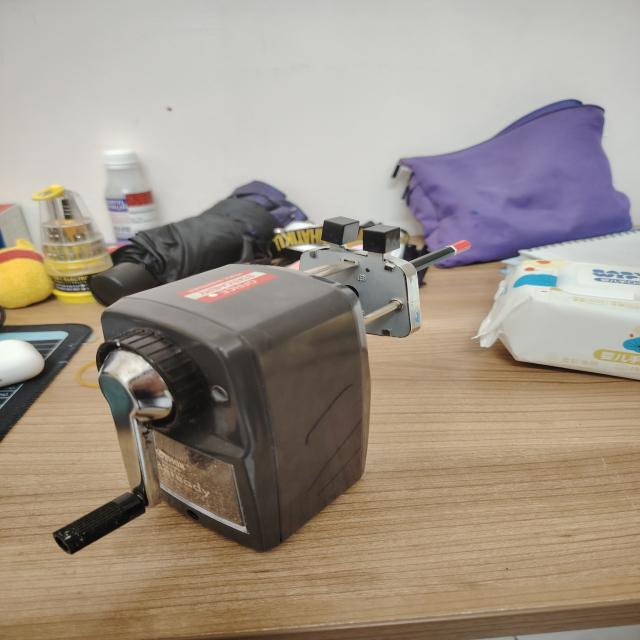pencil: (410, 240, 471, 271)
sharpener: (54, 217, 422, 554)
